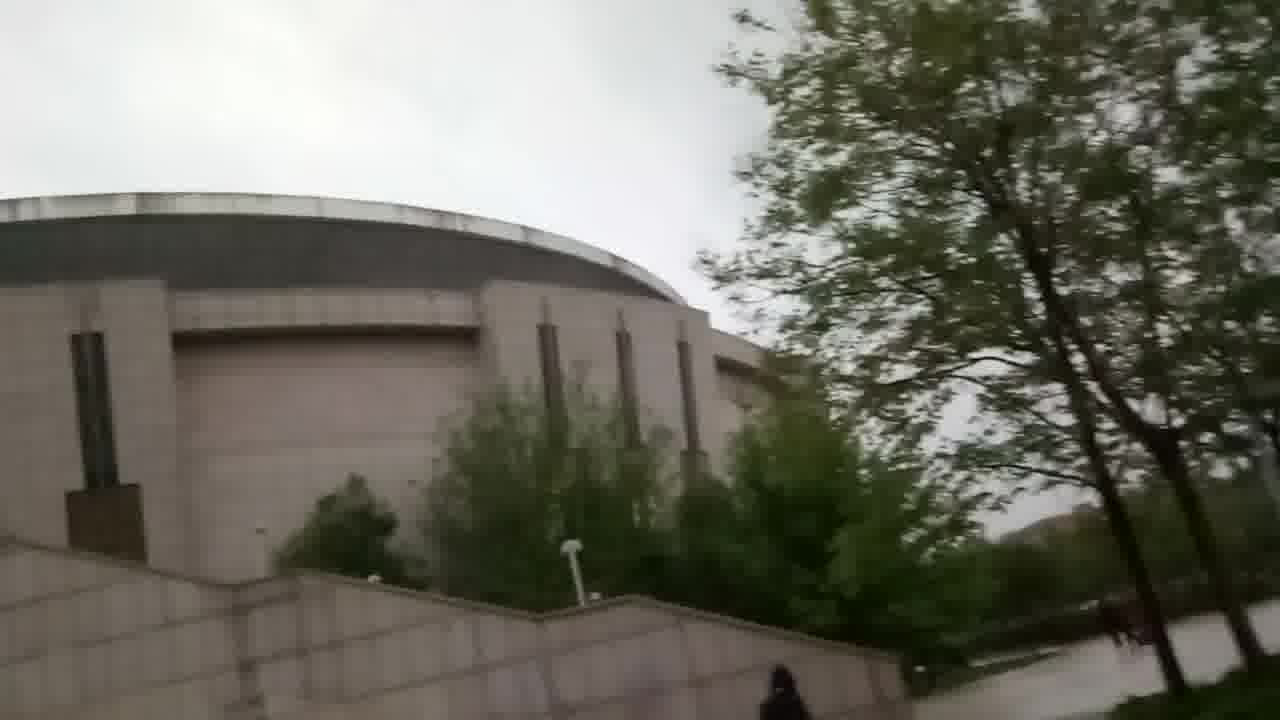zhongtiww: (5, 187, 918, 720)
